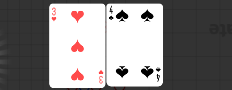3H: (51, 7, 58, 23)
4C: (155, 66, 162, 83)
